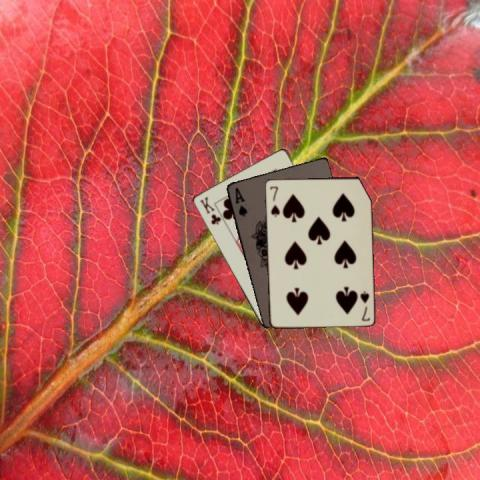7s: (357, 287, 371, 322), (267, 183, 280, 219)
As: (232, 184, 249, 218)
Kc: (197, 194, 222, 226)
